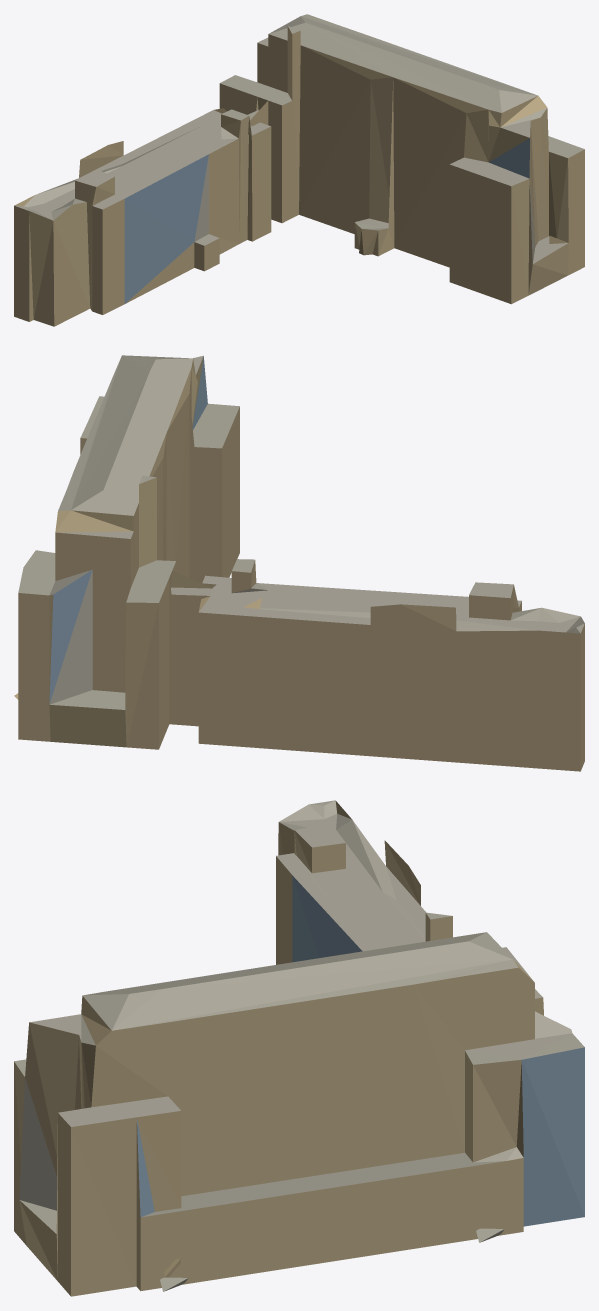
The model's file is kohnstammhuis.lod2.glb.
3 views of the same model, one above another, from view 1: azimuth 30°, elevation 25°; view 2: azimuth 150°, elevation 25°; view 3: azimuth 270°, elevation 25° (orthographic). The views are drawn at different scales.
Parts seen in each view (by area): view 1: lod2; view 2: lod2; view 3: lod2.
Boxes of the visible parts, x1,y1,x2,y2 form: lod2: (14, 14, 584, 326); lod2: (14, 355, 584, 771); lod2: (14, 800, 584, 1296).
Bounding box in the file's own units: 135 × 49.71 × 97.02.
